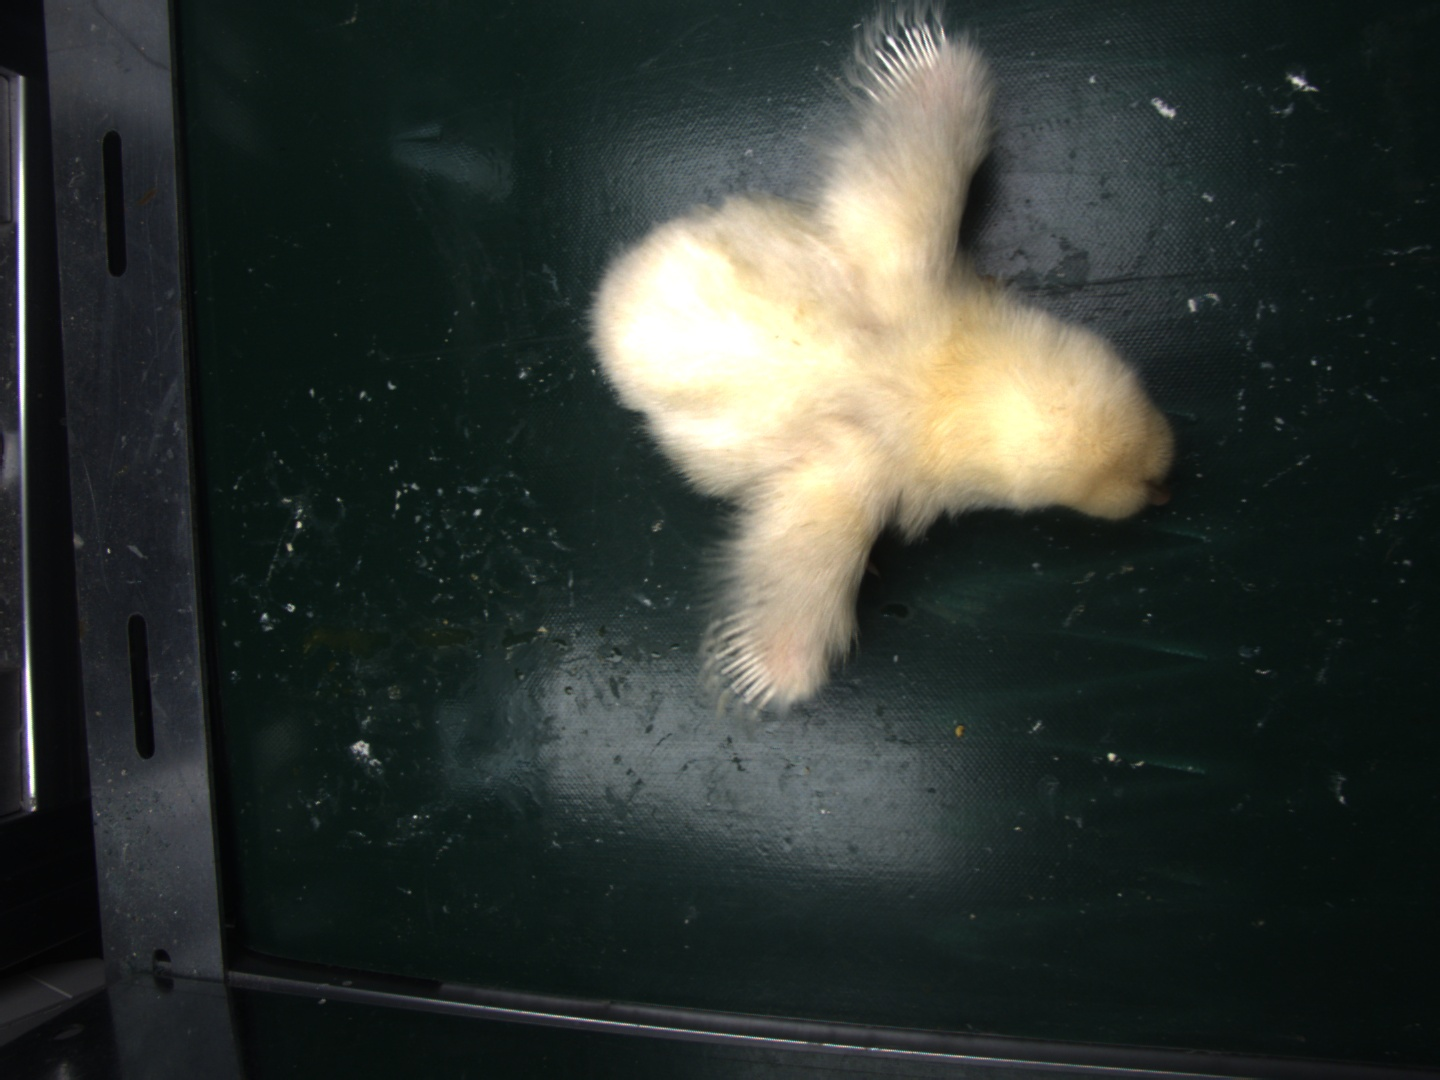male: (867, 26, 947, 102), (714, 617, 779, 707)
